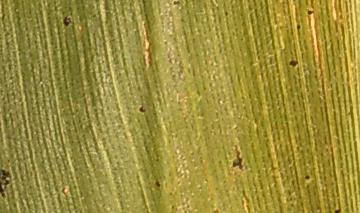tarspot: (230, 143, 245, 172), (1, 168, 13, 198), (287, 55, 300, 68), (62, 15, 73, 28), (153, 177, 162, 189), (305, 7, 315, 17), (137, 105, 147, 114), (303, 172, 312, 182), (171, 1, 183, 6), (332, 207, 342, 213), (223, 10, 230, 17), (296, 23, 302, 31)
